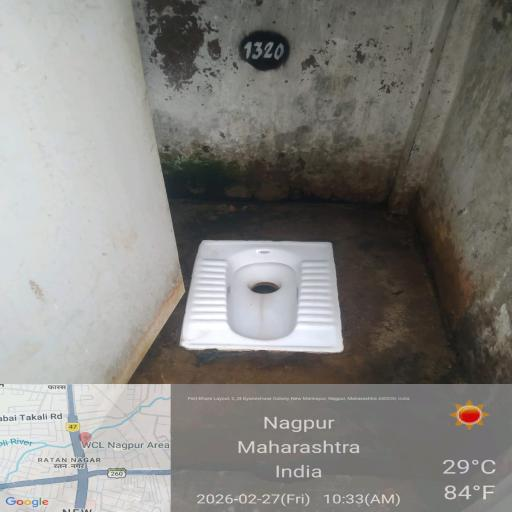clean_floor: (144, 10, 508, 223), (102, 324, 512, 496)
clean_indian: (162, 212, 370, 361)
